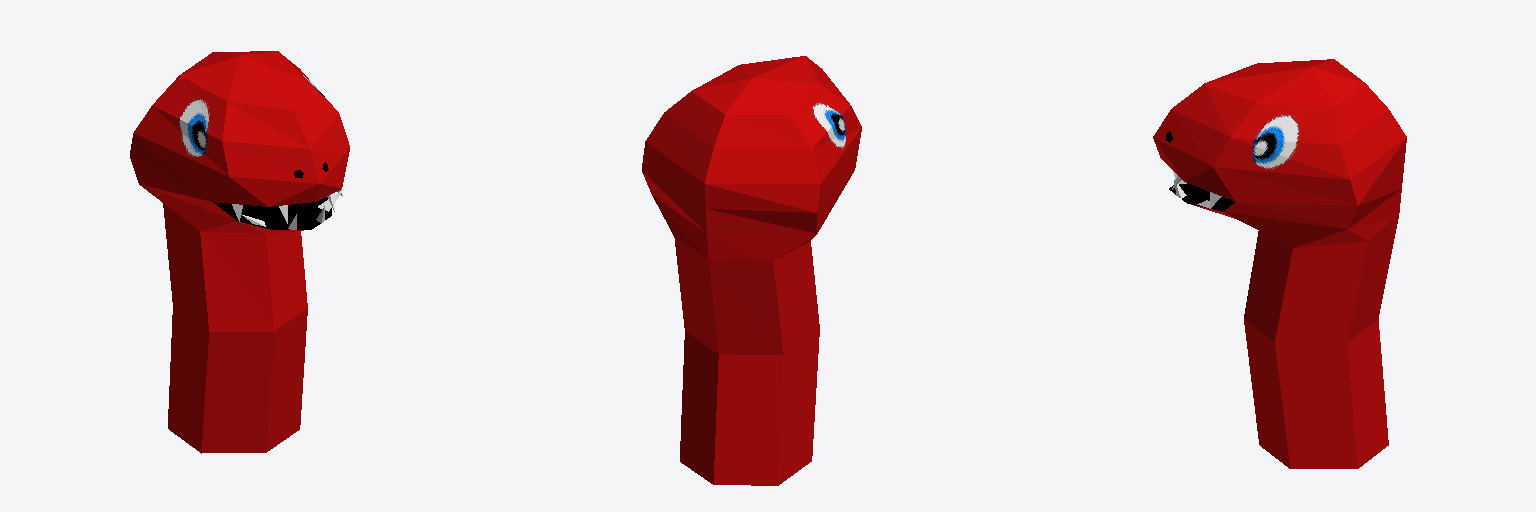
3 renders of one model, left to right at view 1: azimuth 30°, elevation 25°; view 2: azimuth 150°, elevation 25°; view 3: azimuth 270°, elevation 25°, orthographic.
Parts seen in each view (by area): view 1: 4; view 2: 4; view 3: 4.
Part boxes in pixels (bbox=[...]): 4: bbox=[130, 51, 349, 453]; 4: bbox=[642, 56, 861, 485]; 4: bbox=[1153, 59, 1406, 468].
Size of the model in its own units: 0.0078 by 0.0161 by 0.0098.
Materials: 1 (1 with a texture image).